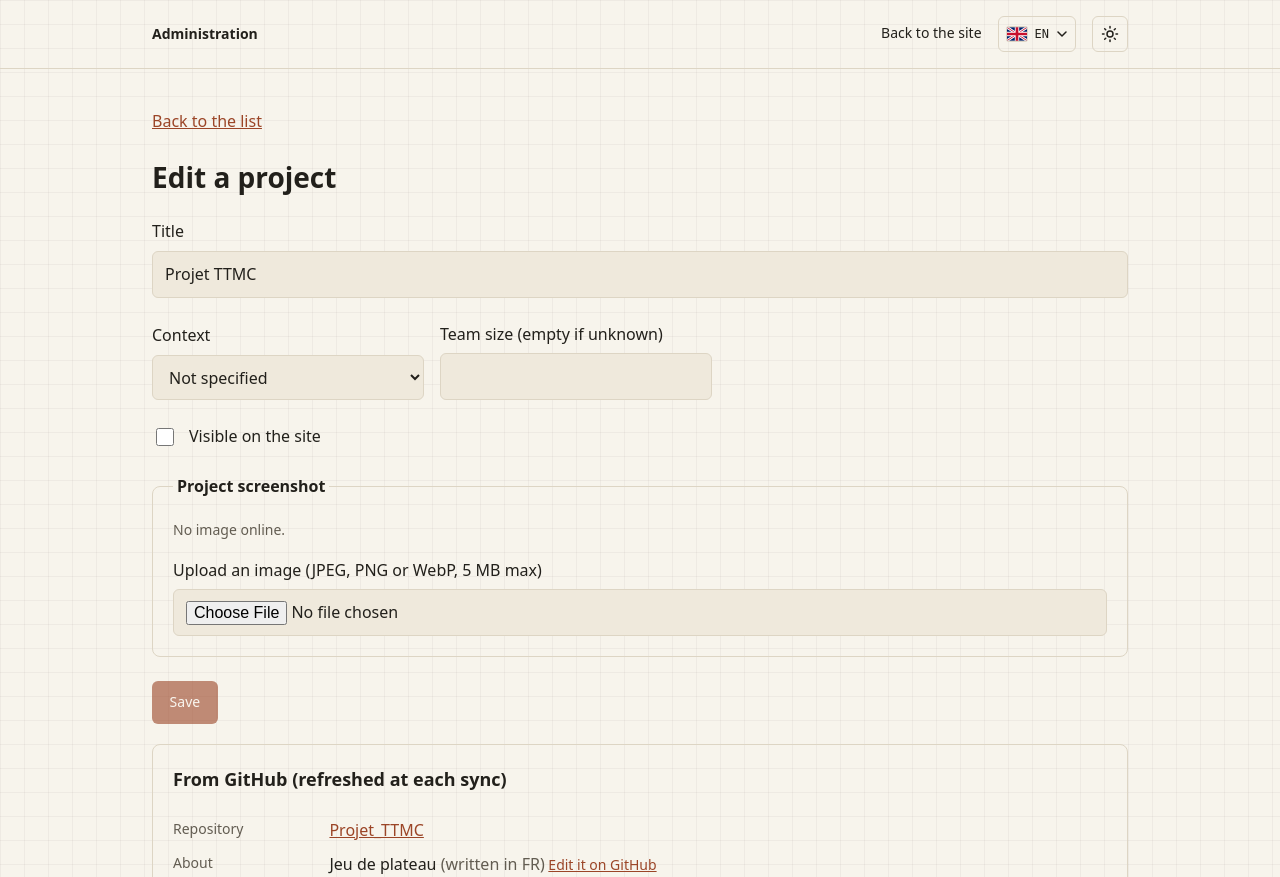
Test: project editor › explains invalid values next to their field
Type "many" into the field labelled "Team size (empty if unknown)".
click(576, 377); type("many")  # box [440, 353, 712, 400]
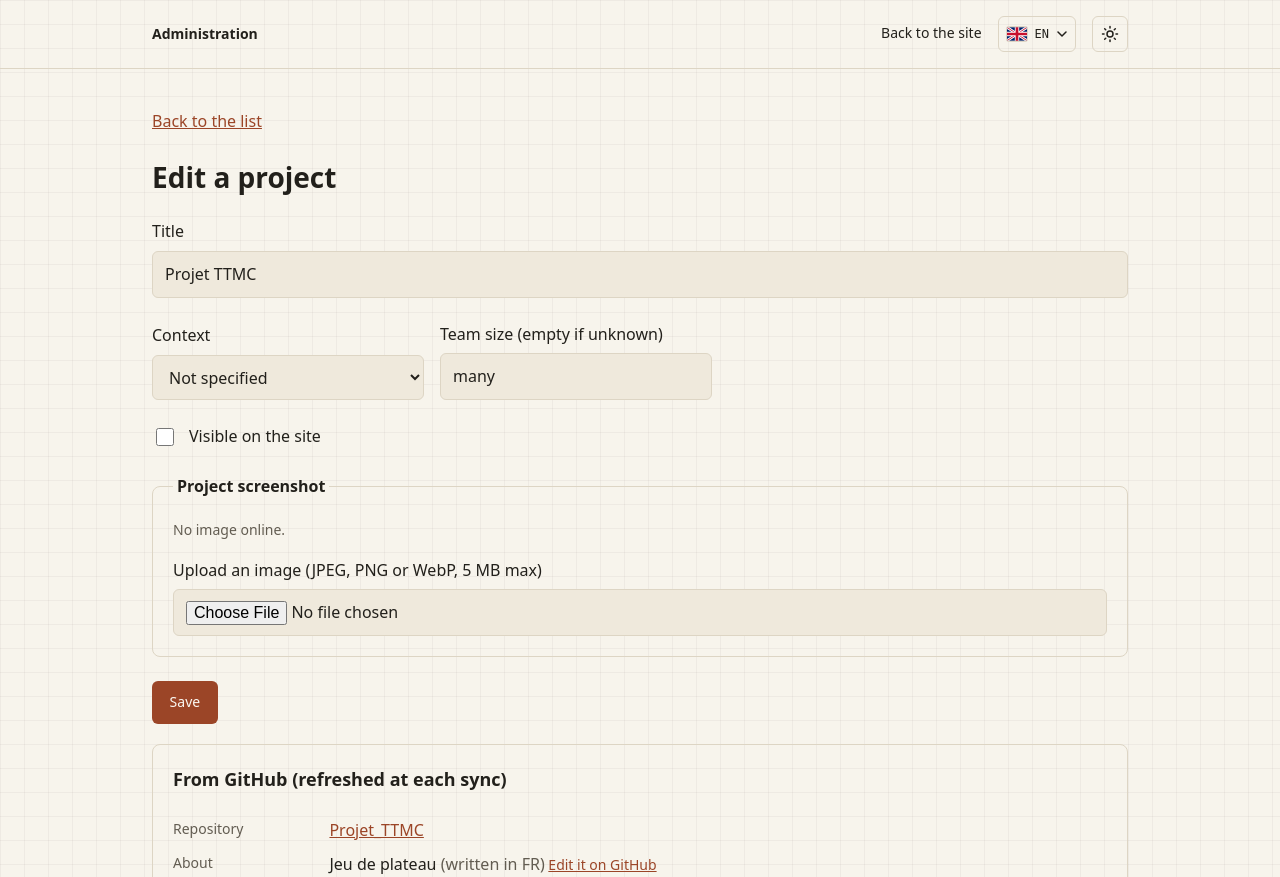
Click the button "Save".
click(185, 703)  # box [152, 681, 218, 724]
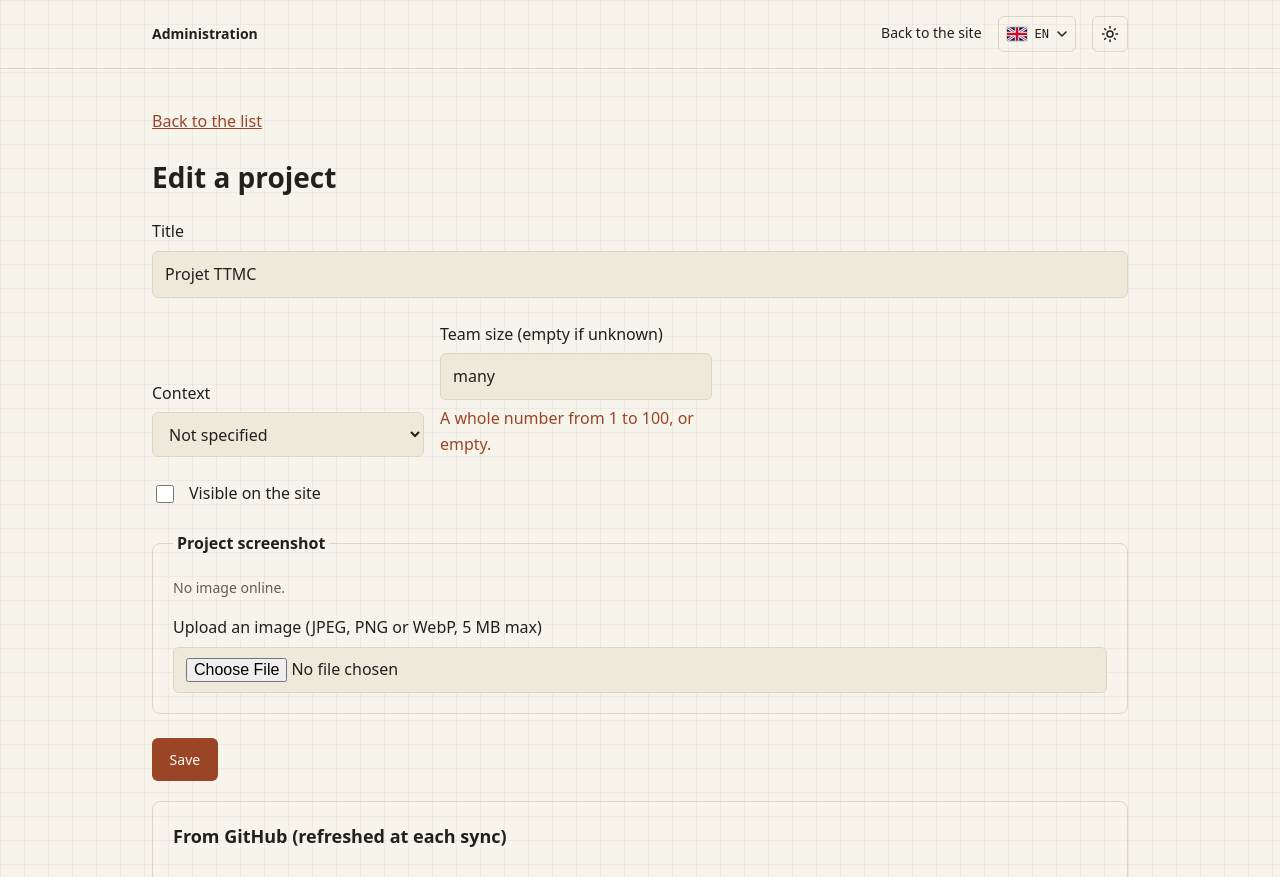
Expected: the text "A whole number from 1 to 100, or empty." is shown, [440, 406, 712, 457]
